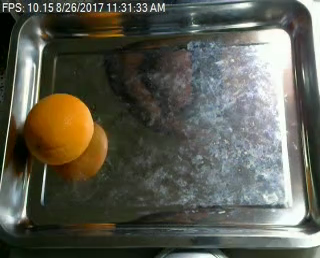Orange: (23, 92, 95, 164)
